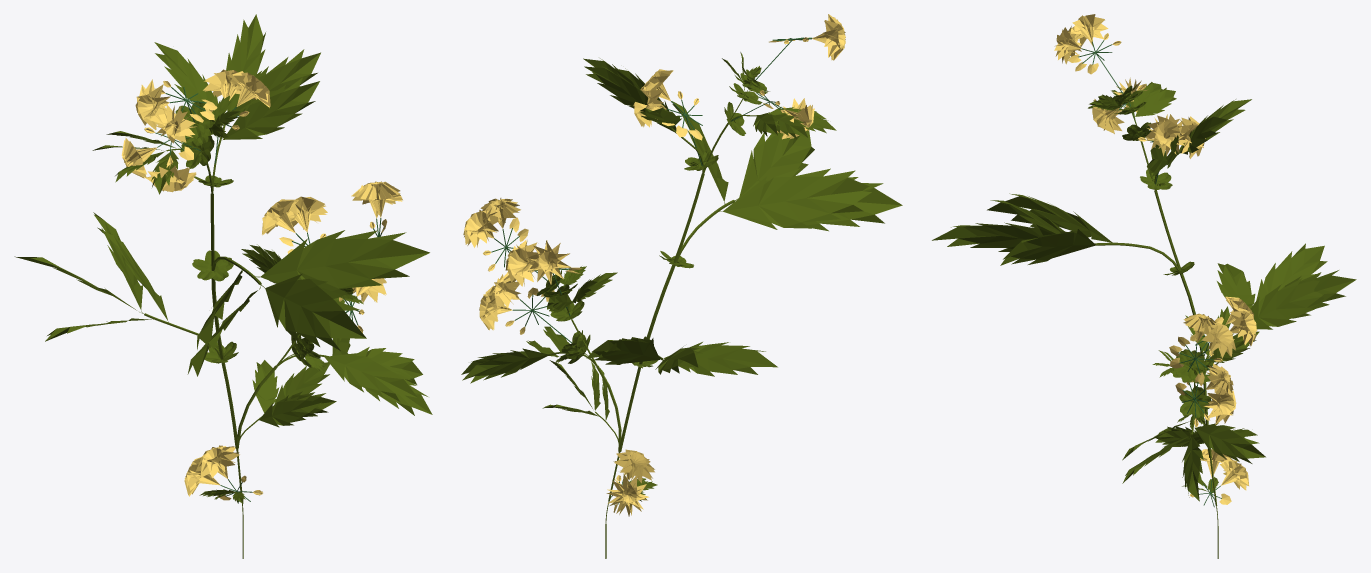
Rendered from m_plants2.obj.
3 views of the same model, side by side, from view 1: azimuth 30°, elevation 25°; view 2: azimuth 150°, elevation 25°; view 3: azimuth 270°, elevation 25° (orthographic). The views are drawn at different scales.
Visible parts, largest first — view 1: 1Newplan; view 2: 1Newplan; view 3: 1Newplan.
Part boxes in pixels (x1,y1,x2,y2): 1Newplan: [14, 14, 432, 558]; 1Newplan: [461, 14, 902, 558]; 1Newplan: [932, 14, 1356, 558].
Bounding box in the file's own units: 1.19 × 1.8 × 1.45.
